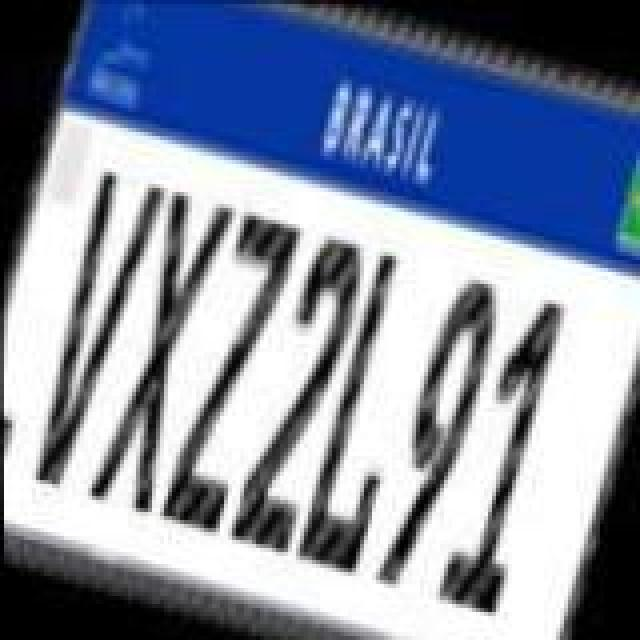1: (428, 280, 584, 616)
2: (224, 222, 376, 558)
9: (358, 262, 510, 598)
L: (290, 244, 442, 580)
V: (12, 158, 168, 498)
X: (82, 176, 238, 516)
Z: (152, 202, 304, 538)
